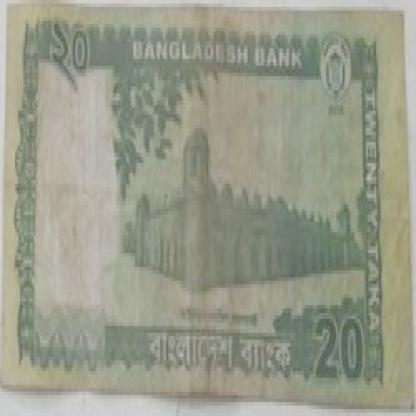Twenty: (310, 308, 376, 392), (48, 10, 102, 94)
